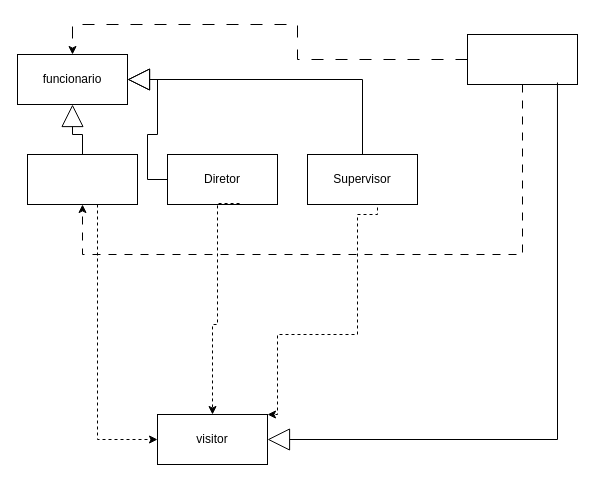
This 597x482 diagram has some shape labels left out. Each missing label, with the box of its shape:
oleriteVisitor: (466, 34, 578, 84)
Peão: (26, 154, 138, 204)
